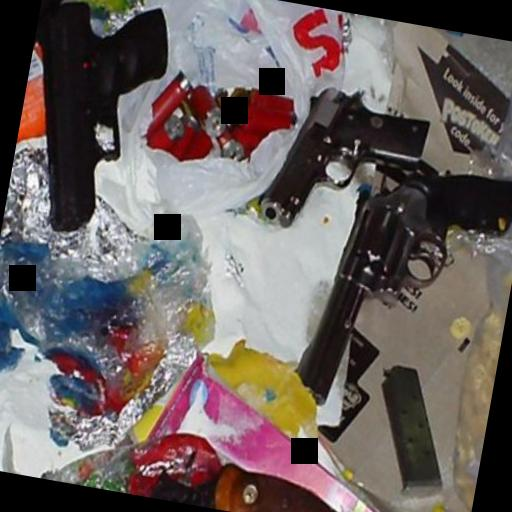Handgun: (287, 141, 512, 427), (3, 0, 175, 244), (250, 72, 434, 246)
